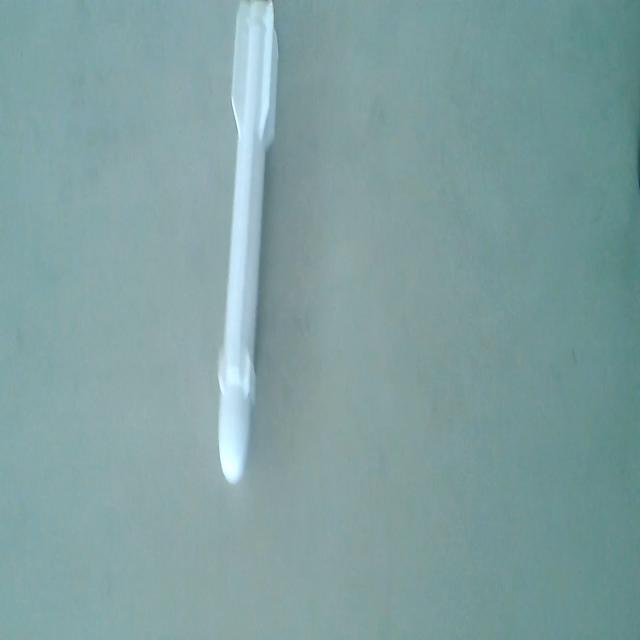Rocket: (214, 0, 282, 491)
